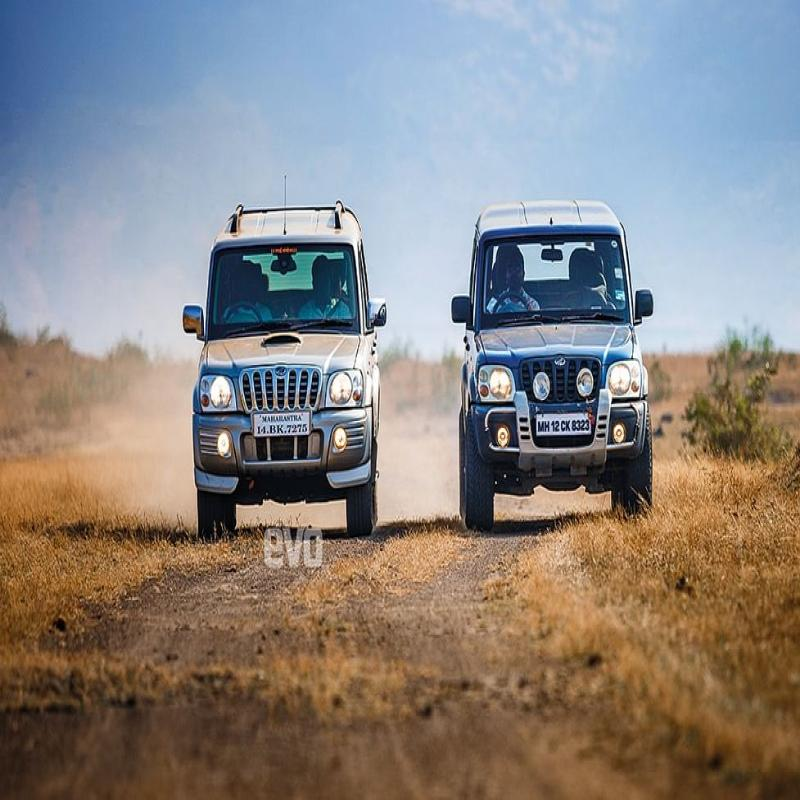car: (170, 184, 390, 509), (453, 190, 652, 525)
